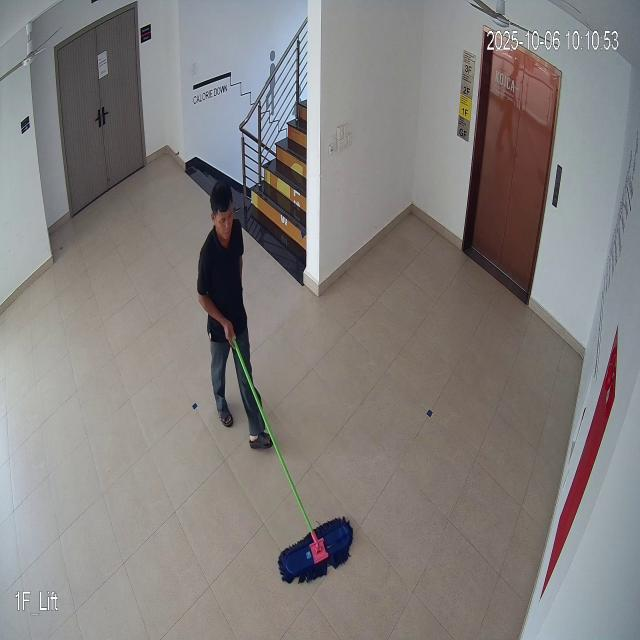face: (208, 182, 240, 248)
